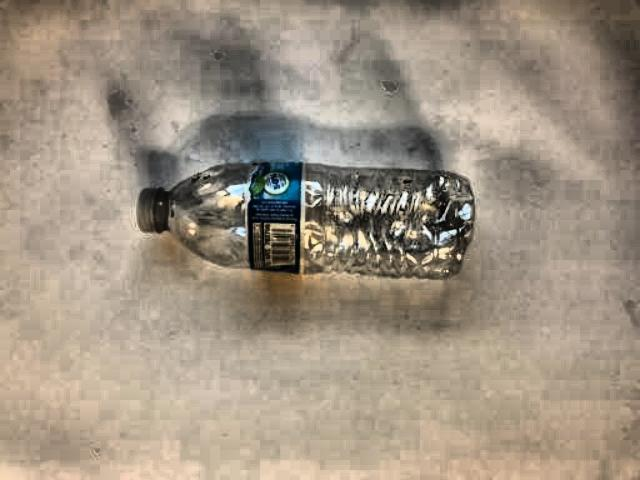Bottles: (78, 123, 525, 308)
